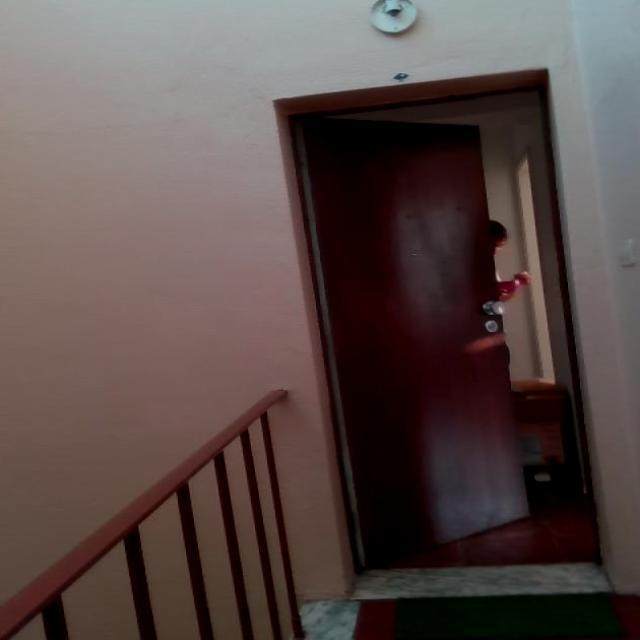door: (281, 110, 533, 551)
